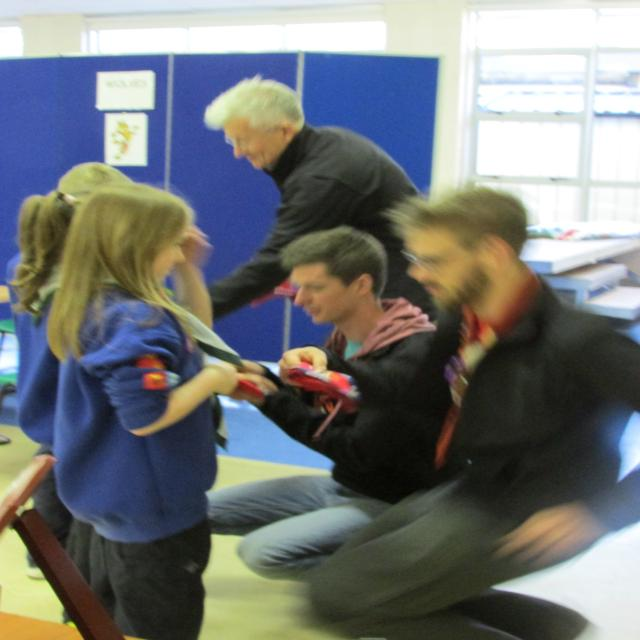body: (276, 186, 639, 640), (34, 179, 249, 640), (204, 224, 439, 582), (164, 71, 440, 324), (5, 160, 139, 585)
